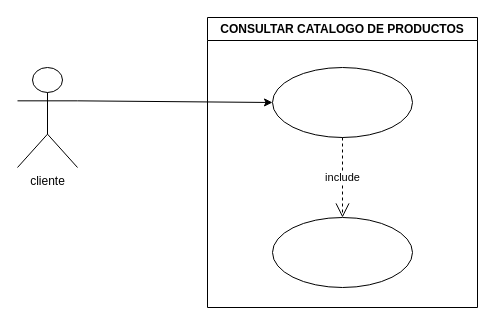
Image size: 495x325. Some labels were removed from this diagram. The shapes that lost their labels are listed below. From the top down, each one's centre as x and y in pixels, then its label:
At point (342, 102): "Filtrar productos".
At point (342, 252): "Mostrar productos de acuerdo al filtrado".
